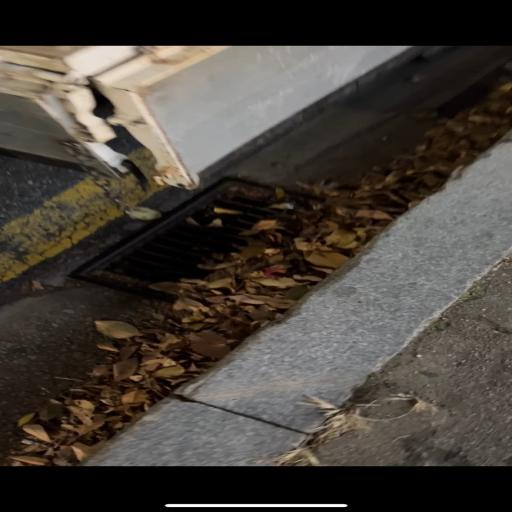debris: (242, 219, 282, 241), (233, 187, 267, 196), (214, 207, 238, 213), (271, 202, 287, 208), (211, 219, 221, 226), (276, 192, 284, 198)
drain: (100, 187, 412, 308)
